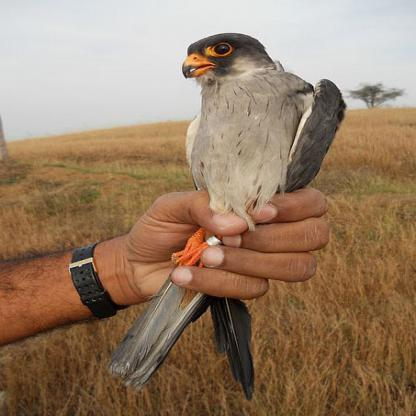Burung: (108, 31, 347, 401)
